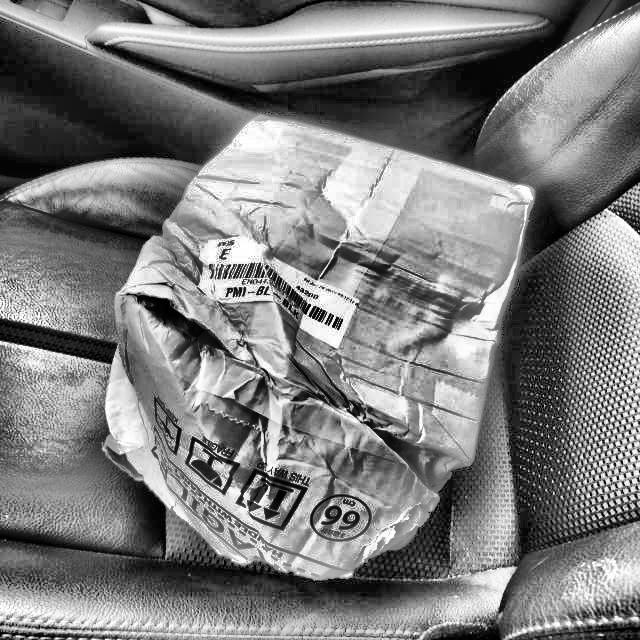box: (95, 100, 550, 589)
hole: (131, 289, 200, 341)
